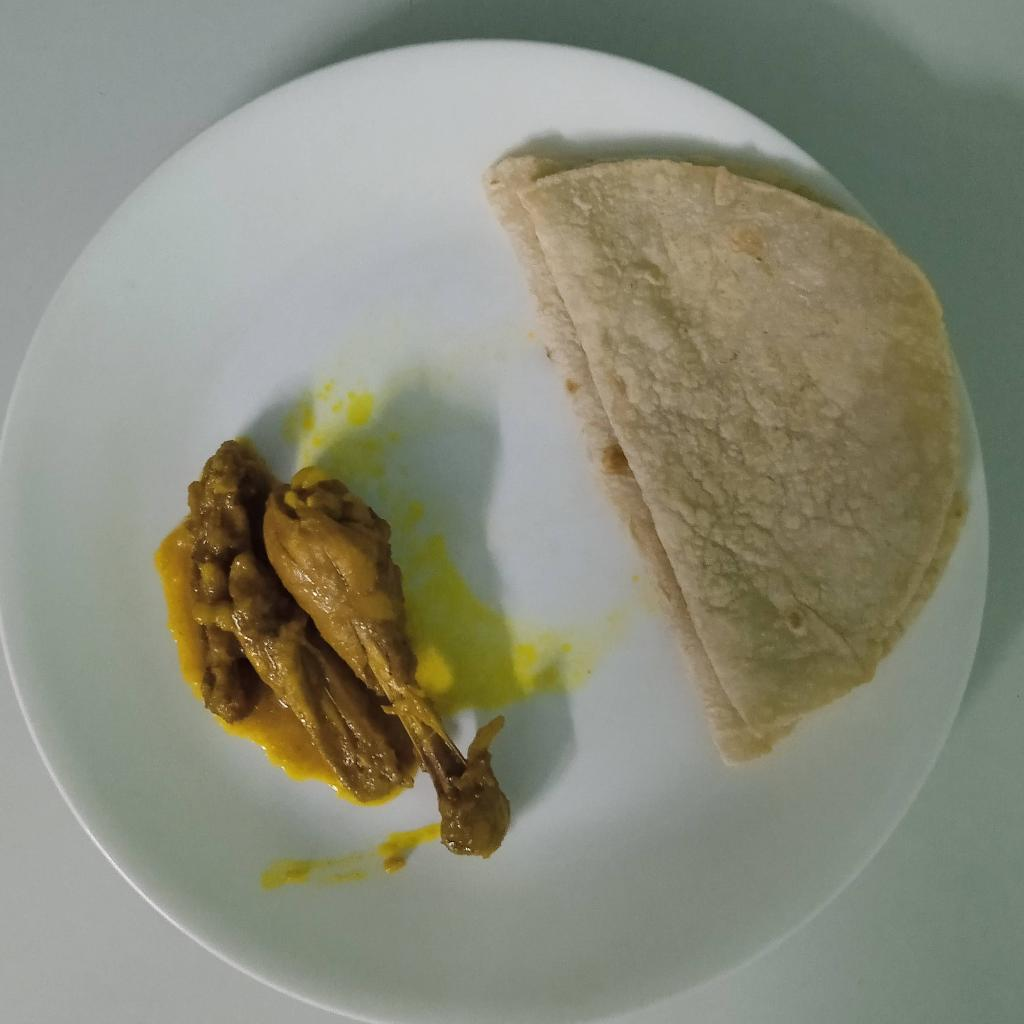chicken: (152, 434, 513, 856)
ruti: (479, 157, 966, 765)
